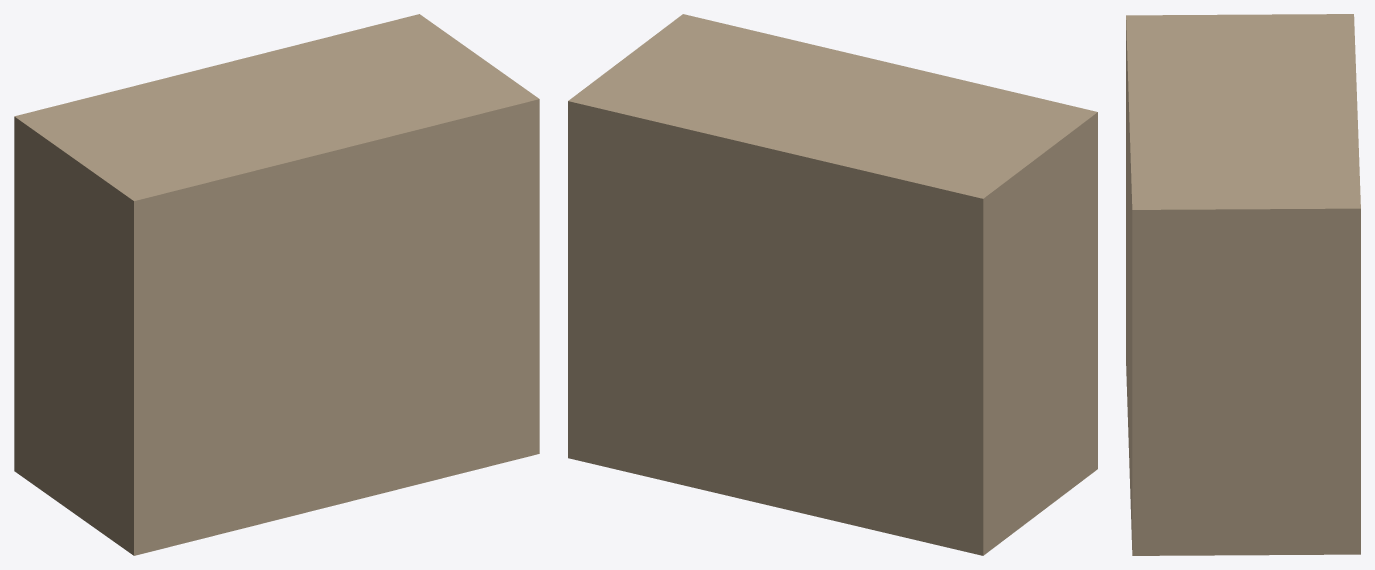
Rendered from bld_164605986.dae.
3 views of the same model, side by side, from view 1: azimuth 30°, elevation 25°; view 2: azimuth 150°, elevation 25°; view 3: azimuth 270°, elevation 25° (orthographic). The views are drawn at different scales.
Visible parts, largest first — view 1: bld_164605986; view 2: bld_164605986; view 3: bld_164605986.
Boxes of the visible parts, left/top/right/bottom form: bld_164605986: left=14, top=14, right=539, bottom=555; bld_164605986: left=568, top=14, right=1097, bottom=555; bld_164605986: left=1126, top=14, right=1360, bottom=555.
Size of the model in its own units: 9.72 by 4.92 by 8.
